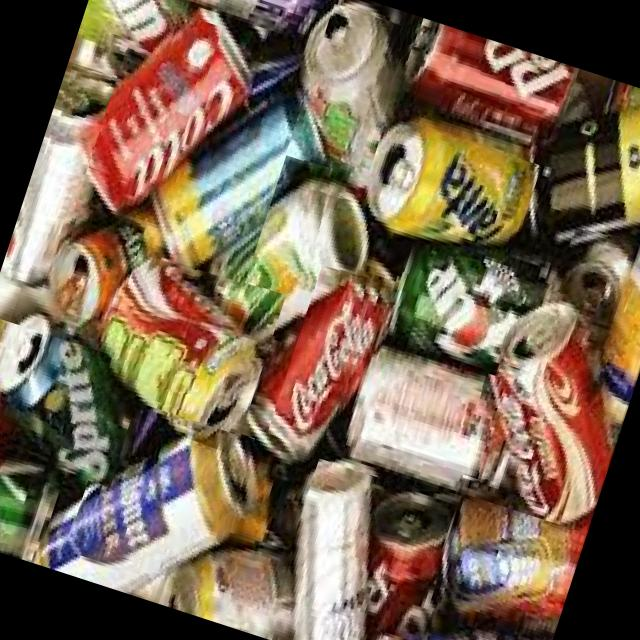Cans: (66, 392, 262, 592), (462, 305, 640, 516), (98, 248, 286, 434), (81, 0, 222, 199), (260, 457, 413, 640), (276, 2, 414, 204), (379, 237, 569, 376), (180, 44, 298, 266), (1, 58, 117, 282), (0, 313, 148, 487), (388, 13, 579, 142), (229, 153, 351, 350), (266, 262, 386, 454), (430, 492, 588, 633), (351, 338, 509, 478), (374, 118, 541, 239), (522, 61, 640, 230), (157, 516, 299, 640), (351, 477, 452, 620), (44, 201, 146, 326), (590, 186, 640, 421), (76, 0, 200, 62), (0, 428, 57, 558), (549, 220, 632, 308), (153, 0, 303, 41), (367, 606, 544, 640)
